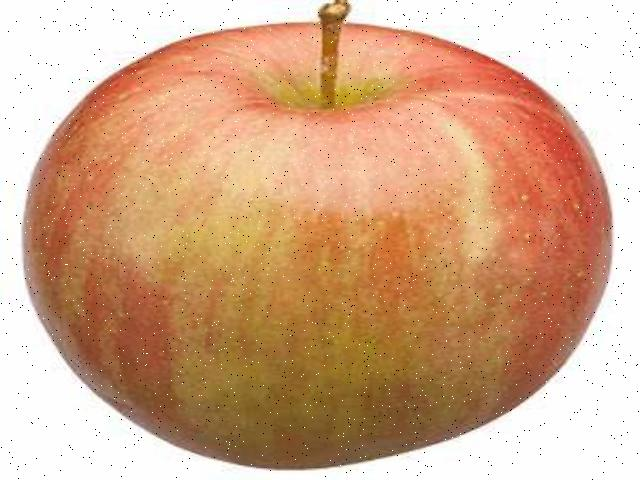apple: (16, 0, 618, 474)
